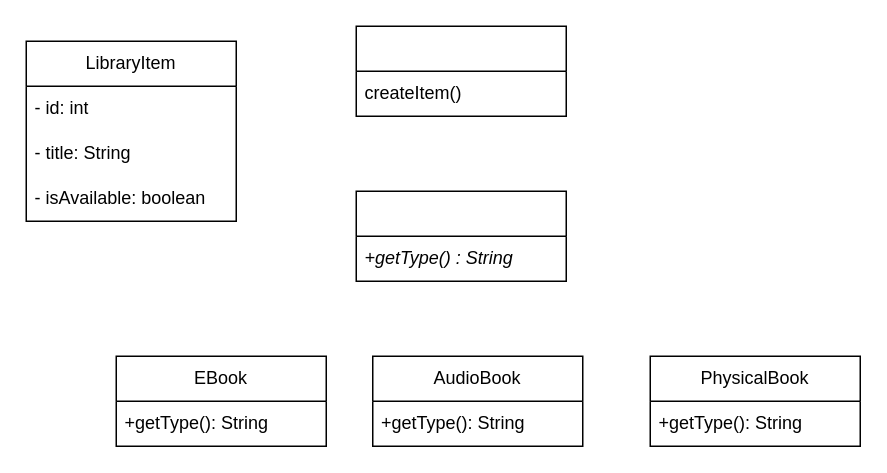
The diagram is 887 pixels wide and 473 high, and some of its shapes have lost their labels. The box of each missing label's shape, as (x1, y1, x2, y2) in pixels:
Book: (355, 190, 566, 281)
BookFactory: (355, 25, 566, 116)
